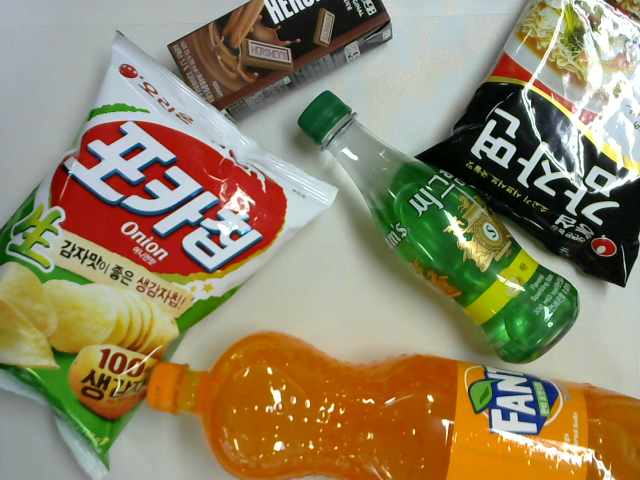Hush_Choco_Drink: (164, 1, 395, 126)
Hwanta_Orange_1.5L: (145, 327, 640, 479)
Pocachip_Onion: (1, 28, 341, 480)
Potato: (411, 1, 640, 289)
Seagram_Lemon_Carbonated_Water: (295, 89, 582, 366)
